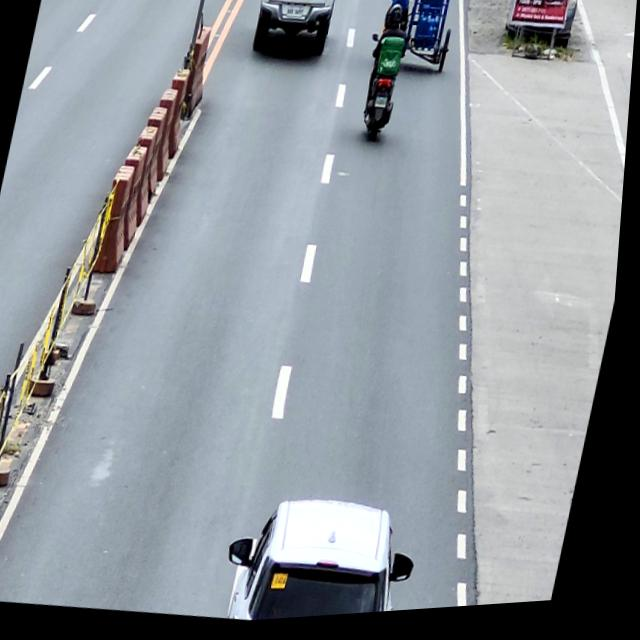Car: (223, 488, 436, 626), (250, 0, 341, 65)
License-Plate: (285, 9, 305, 22), (376, 102, 390, 113)
Motorcycle: (353, 36, 412, 149)
Tricycle: (372, 0, 463, 84)
